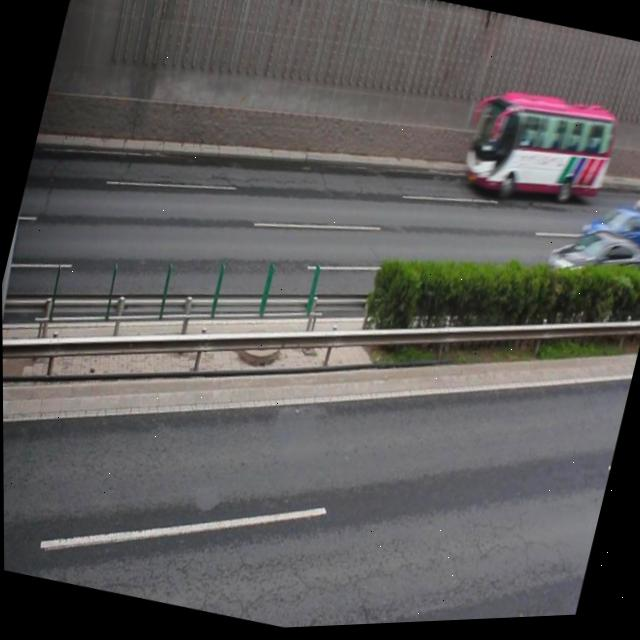car: (538, 222, 640, 309), (578, 202, 640, 264)
van: (458, 79, 621, 222)
